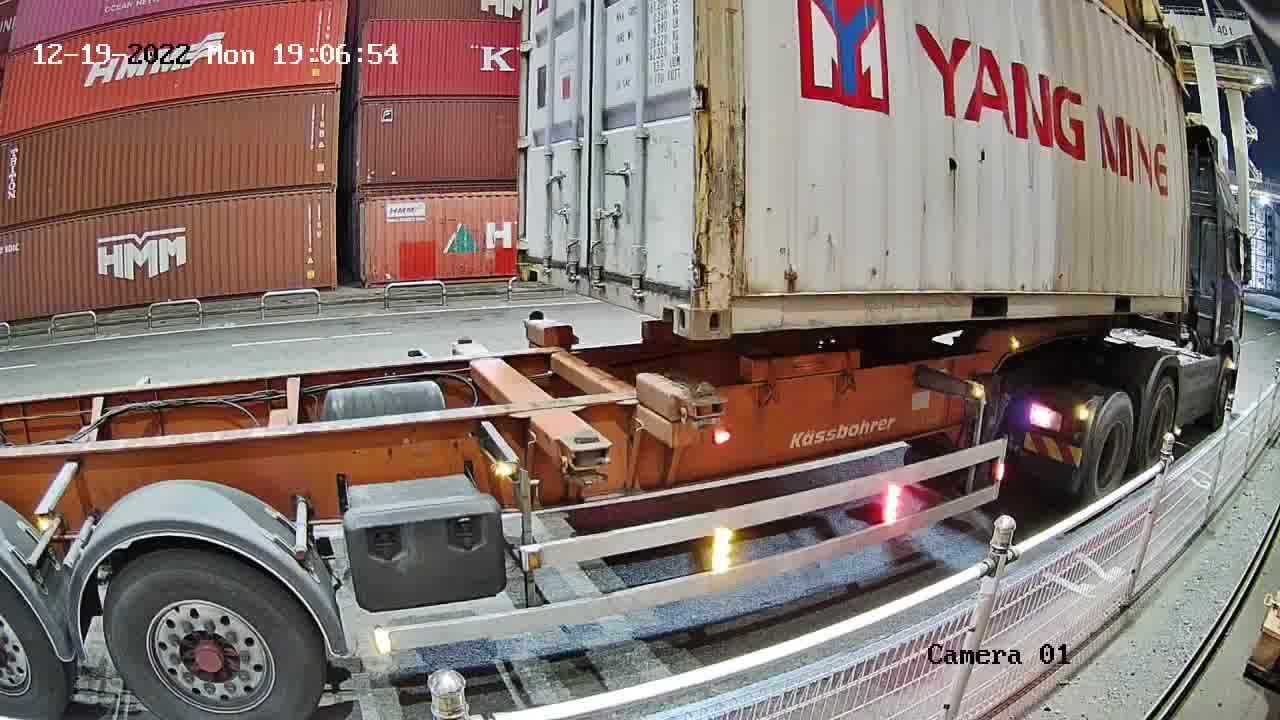Chassis: (524, 318, 699, 420)
Cone: (682, 383, 720, 427), (526, 308, 547, 321)
Hole_L: (694, 268, 770, 340), (515, 244, 549, 285)
Hole_R: (642, 262, 695, 340)
Tire: (1086, 398, 1135, 497), (1143, 382, 1177, 466)
